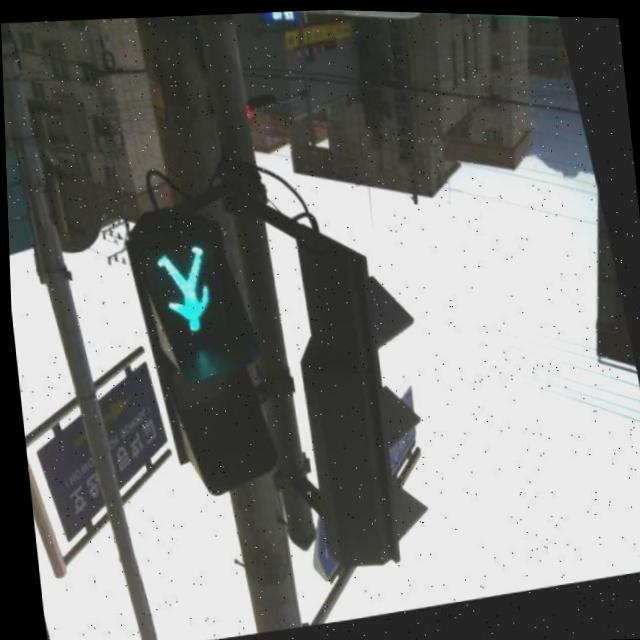green_light: (153, 233, 234, 341)
